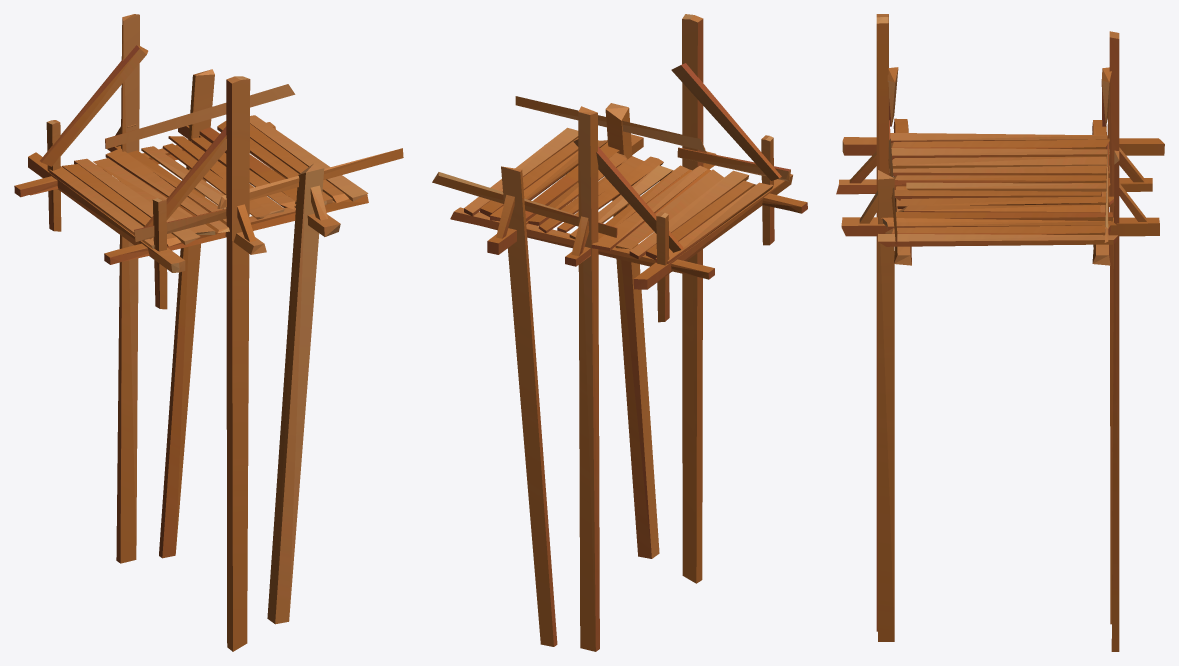
File: bridge007.gltf
The picture shows the model from 3 angles, left to right: view 1: azimuth 30°, elevation 25°; view 2: azimuth 150°, elevation 25°; view 3: azimuth 270°, elevation 25°; orthographic projection. The views are drawn at different scales.
Parts seen in each view (by area): view 1: node_Manmade06_1_-544710; view 2: node_Manmade06_1_-544710; view 3: node_Manmade06_1_-544710.
Boxes of the visible parts, bbox=[...] form: node_Manmade06_1_-544710: bbox=[14, 14, 403, 651]; node_Manmade06_1_-544710: bbox=[432, 14, 807, 651]; node_Manmade06_1_-544710: bbox=[836, 14, 1164, 651].
Size of what is drawn, in the model's own units: 2.91 by 5.39 by 2.61.
1 material, 1 textured.
